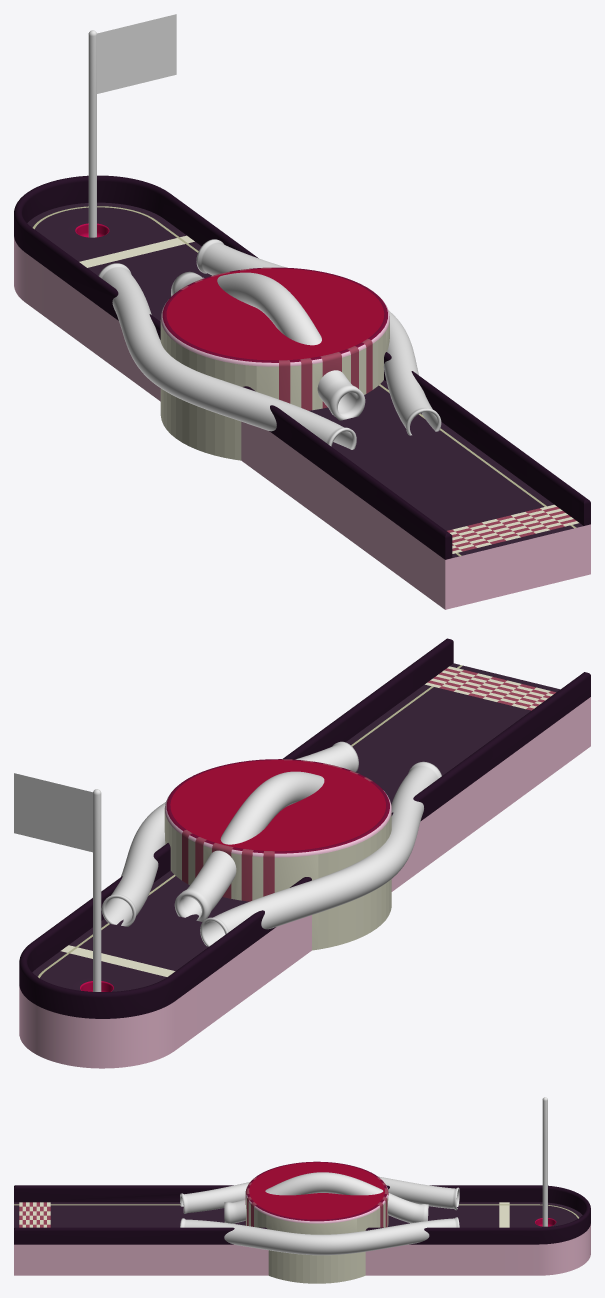
The model's file is First Track.fbx.
The picture shows the model from 3 angles, top to bottom: view 1: azimuth 30°, elevation 25°; view 2: azimuth 150°, elevation 25°; view 3: azimuth 270°, elevation 25°; orthographic projection. The views are drawn at different scales.
Visible parts, largest first — view 1: Minigolf Area, CenterGarden, Pipe.Left, Pipes.Center, Flag Cloth, Pipe.Right, Flag Pole; view 2: Minigolf Area, CenterGarden, Pipe.Left, Pipes.Center, Flag Cloth, Pipe.Right, Flag Pole; view 3: Minigolf Area, CenterGarden, Pipe.Right, Pipes.Center, Pipe.Left, Flag Pole.
Boxes of the visible parts, left/top/right/bottom form: Minigolf Area: left=14, top=175, right=590, bottom=609; CenterGarden: left=160, top=267, right=389, bottom=460; Pipe.Left: left=98, top=263, right=356, bottom=449; Pipes.Center: left=171, top=271, right=365, bottom=420; Flag Cloth: left=97, top=14, right=176, bottom=93; Pipe.Right: left=196, top=239, right=441, bottom=435; Flag Pole: left=88, top=30, right=96, bottom=237; Minigolf Area: left=19, top=638, right=590, bottom=1068; CenterGarden: left=164, top=759, right=391, bottom=950; Pipe.Left: left=200, top=761, right=441, bottom=946; Pipes.Center: left=174, top=771, right=324, bottom=921; Flag Cloth: left=14, top=773, right=92, bottom=852; Pipe.Right: left=101, top=741, right=358, bottom=926; Flag Pole: left=93, top=789, right=101, bottom=991; Minigolf Area: left=14, top=1185, right=590, bottom=1275; CenterGarden: left=245, top=1161, right=388, bottom=1283; Pipe.Right: left=180, top=1217, right=459, bottom=1255; Pipes.Center: left=224, top=1172, right=428, bottom=1223; Pipe.Left: left=180, top=1176, right=459, bottom=1213; Flag Pole: left=542, top=1097, right=547, bottom=1226.
Bounding box in the file's own units: 99.57 × 100 × 335.
